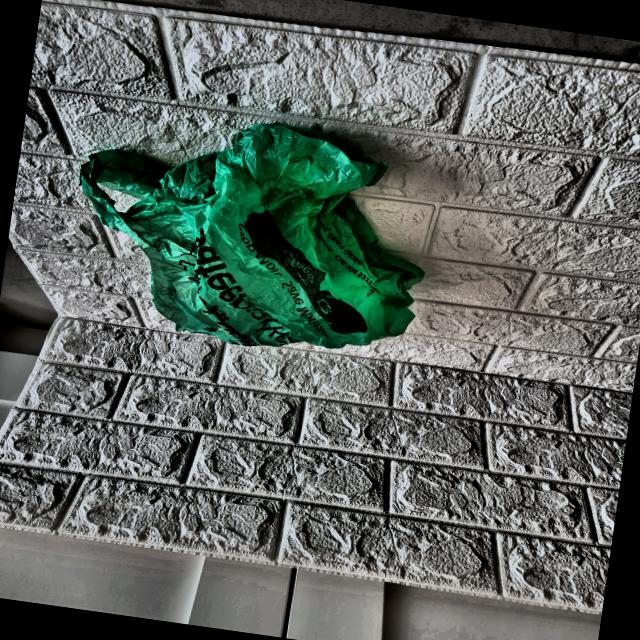plastic bag: (54, 96, 440, 377)
